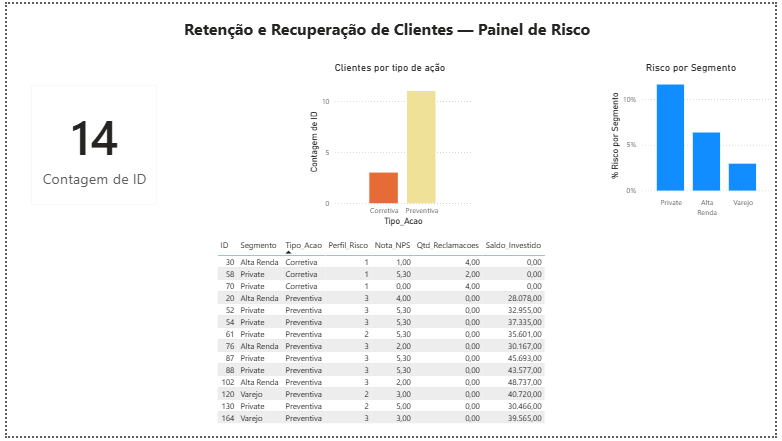

Layout of this report page (visuals, bound fields, positions):
{"tool":"powerbi","page":{"name":"Página 1","canvas":[1280,720],"ordinal":0},"visuals":[{"type":"cardVisual","fields":{"Data":["CountNonNull(clientes_risco_dashboard.ID)"]},"box":[0,95,290,280],"z":0},{"type":"clusteredColumnChart","title":"Clientes por tipo de ação","fields":{"Category":["clientes_risco_dashboard.Tipo_Acao"],"Y":["CountNonNull(clientes_risco_dashboard.ID)"]},"box":[498.6,94.3,280,280],"z":1000},{"type":"tableEx","fields":{"Values":["clientes_risco_dashboard.ID","clientes_risco_dashboard.Segmento","clientes_risco_dashboard.Tipo_Acao","clientes_risco_dashboard.Perfil_Risco","clientes_risco_dashboard.Nota_NPS","clientes_risco_dashboard.Qtd_Reclamacoes","clientes_risco_dashboard.Saldo_Investido"]},"box":[345.7,387.1,585.7,332.9],"z":2000},{"type":"clusteredColumnChart","title":"Risco por Segmento","fields":{"Category":["clientes_risco_dashboard.Segmento"],"Y":["clientes_risco_dashboard.% Risco por Segmento"]},"box":[1000,94.3,280,280],"z":3000},{"type":"textbox","box":[290,0,700,72.9],"z":4000}]}

Visuals, with their boxes in screenshot pixels (x1, y1, x2, y2), scaled from the page's 1280x720 canvas onto the 782x441 screenshot:
cardVisual - CountNonNull(clientes_risco_dashboard.ID): {"x1": 0, "y1": 58, "x2": 177, "y2": 230}
"Clientes por tipo de ação" clusteredColumnChart: {"x1": 305, "y1": 58, "x2": 476, "y2": 229}
tableEx - clientes_risco_dashboard.ID x clientes_risco_dashboard.Segmento: {"x1": 211, "y1": 237, "x2": 569, "y2": 440}
"Risco por Segmento" clusteredColumnChart: {"x1": 611, "y1": 58, "x2": 781, "y2": 229}
textbox: {"x1": 177, "y1": 0, "x2": 605, "y2": 45}
